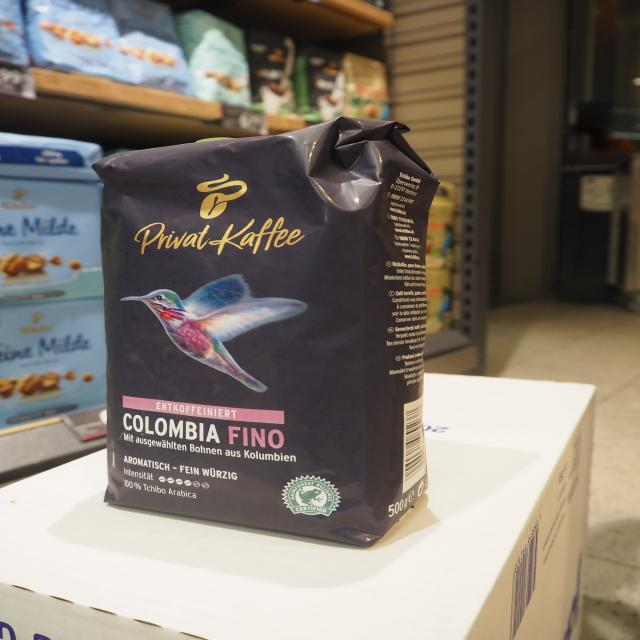C Fino Bohne: (89, 112, 447, 553)
